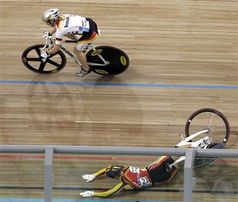fall: (76, 144, 181, 201)
